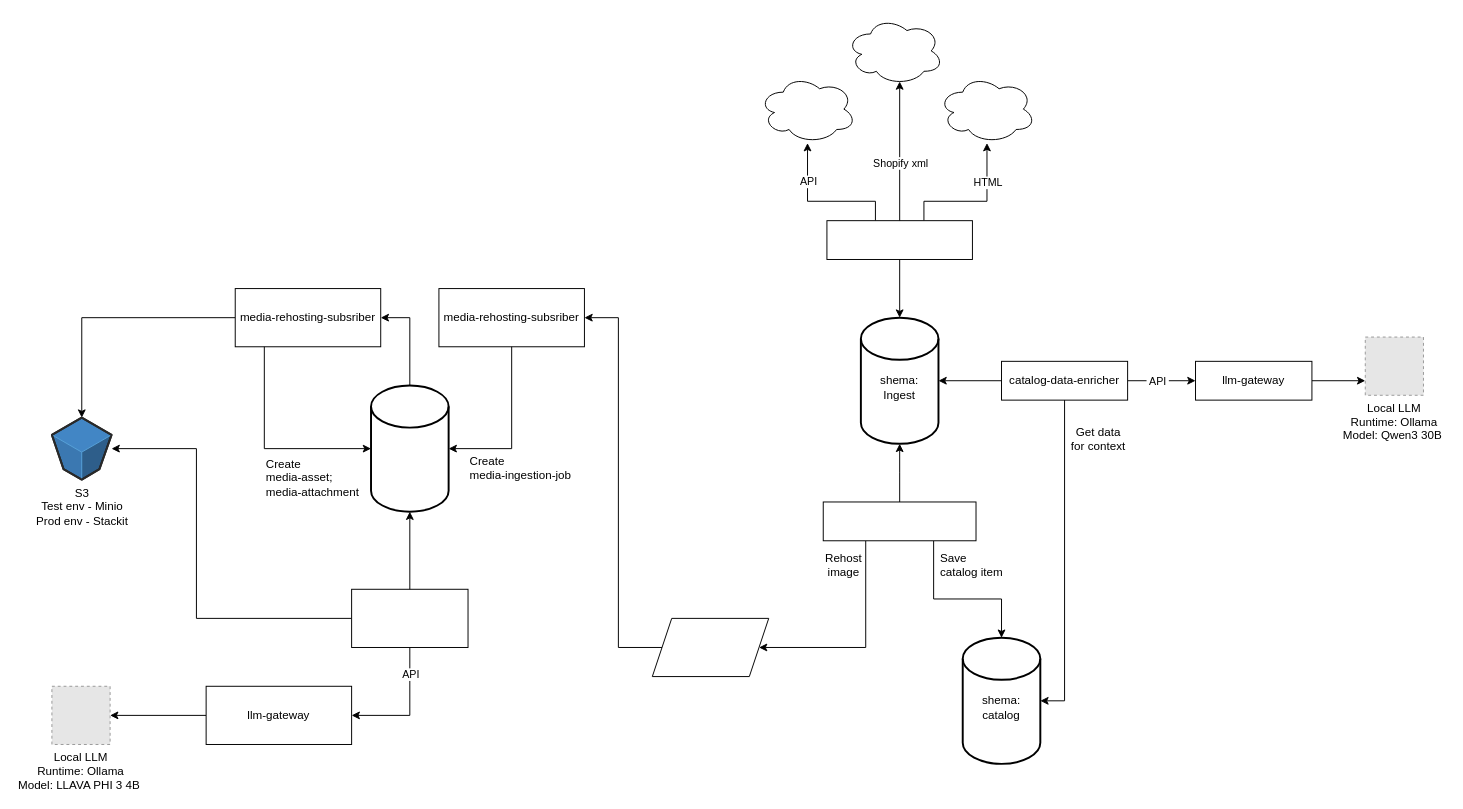
Image size: 1463x809. Some labels were removed from this diagram. Grey dashed boxes stand in for pictures. Each missing label, with the centre of its shape:
"catalog-collector" goes at (899,239).
"catalog-importer" goes at (899,521).
"Kafka Event bus" goes at (710,647).
"media-normalizator" goes at (409,617).
"shema: media" goes at (409,448).
